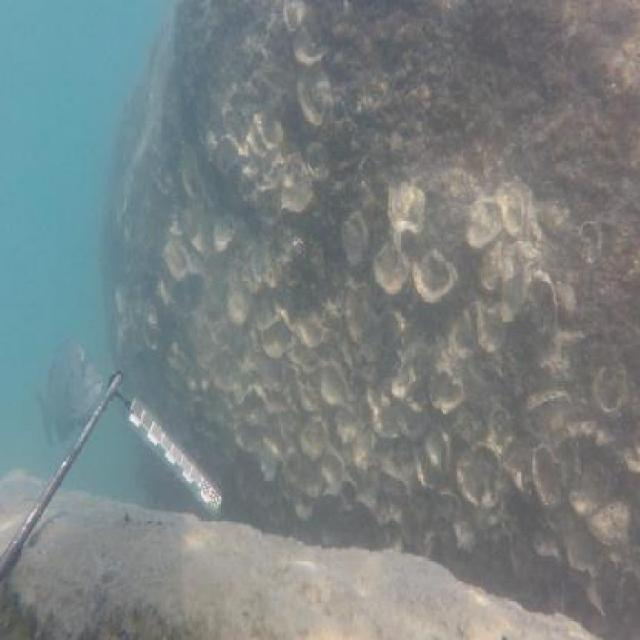acanthopagrus_palmaris: (35, 333, 103, 442)
